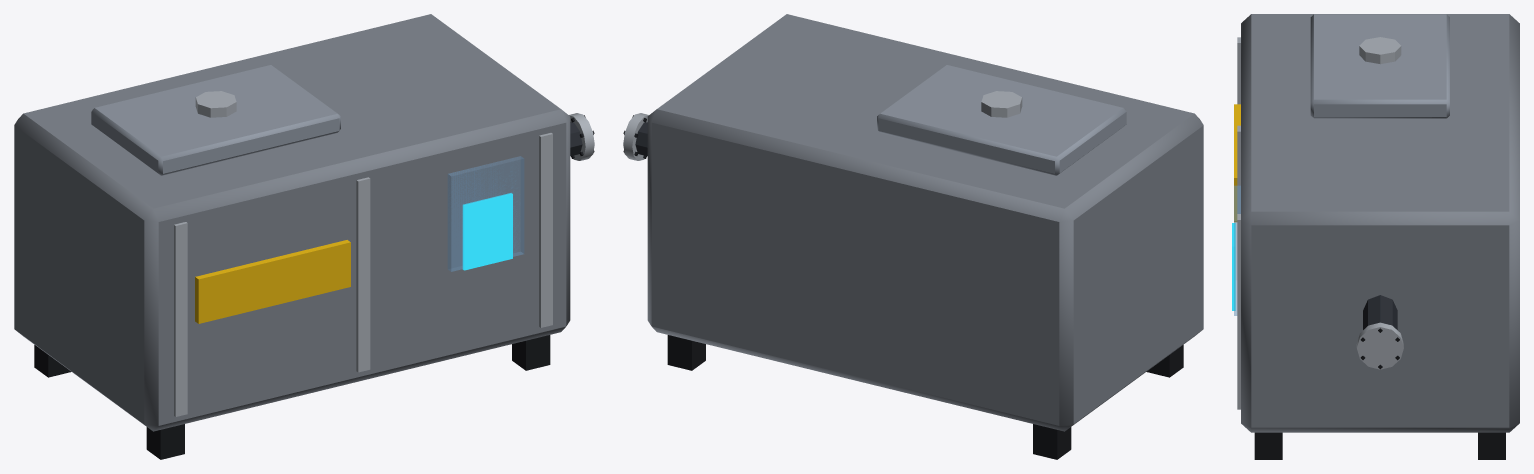
File: tank_sump_tank.glb
3 views of the same model, side by side, from view 1: azimuth 30°, elevation 25°; view 2: azimuth 150°, elevation 25°; view 3: azimuth 270°, elevation 25° (orthographic).
Parts seen in each view (by area): view 1: tank_sump_tank; view 2: tank_sump_tank; view 3: tank_sump_tank.
Boxes of the visible parts, box(x1,y1,x2,y2) form: tank_sump_tank: box(14, 14, 594, 459); tank_sump_tank: box(623, 14, 1203, 459); tank_sump_tank: box(1232, 14, 1519, 459).
Size of the model in its own units: 1.66 by 0.895 by 0.825.
